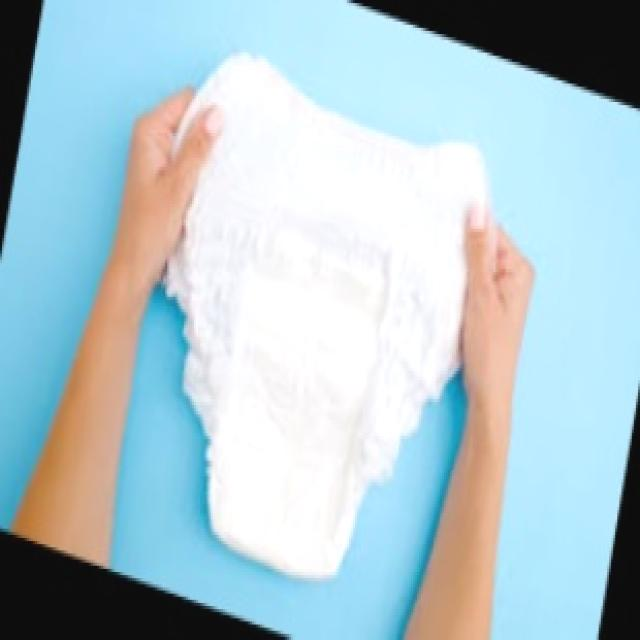B3: (160, 48, 488, 592), (165, 56, 487, 575)
